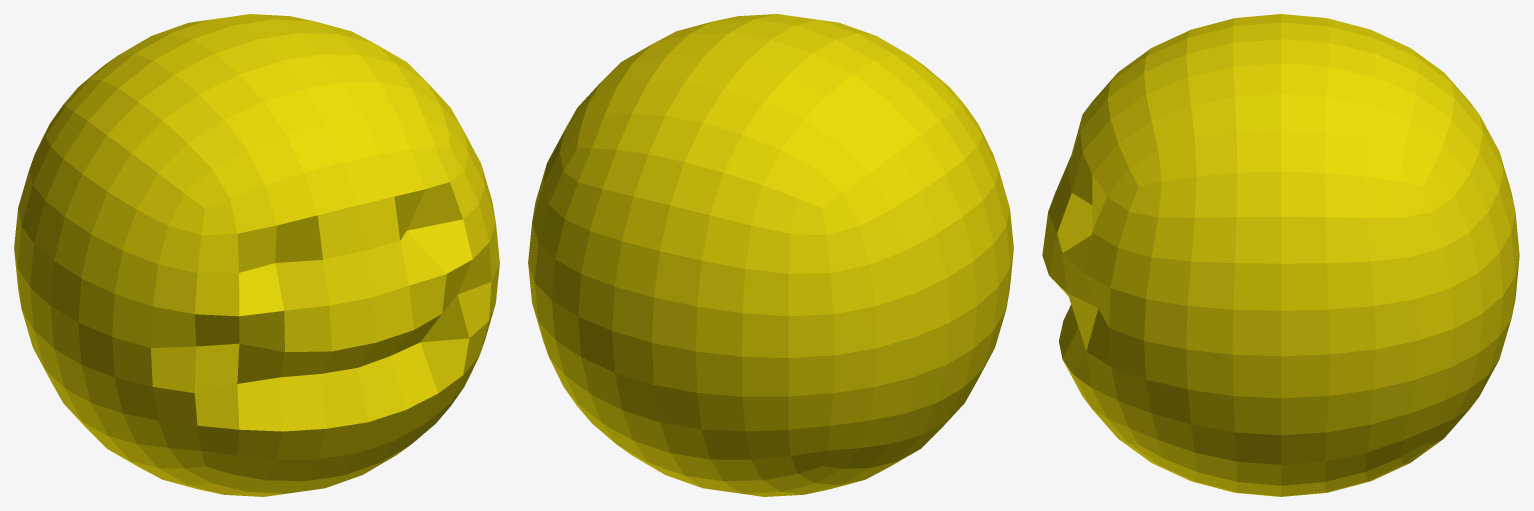
Rendered from Powered Up Pac-Man.fbx.
3 views of the same model, side by side, from view 1: azimuth 30°, elevation 25°; view 2: azimuth 150°, elevation 25°; view 3: azimuth 270°, elevation 25° (orthographic).
Parts seen in each view (by area): view 1: Cube; view 2: Cube; view 3: Cube.
Part boxes in pixels (x1=…): Cube: x1=14, y1=14, x2=499, y2=496; Cube: x1=528, y1=14, x2=1013, y2=496; Cube: x1=1042, y1=14, x2=1519, y2=496.
Size of the model in its own units: 840 by 840 by 840.
